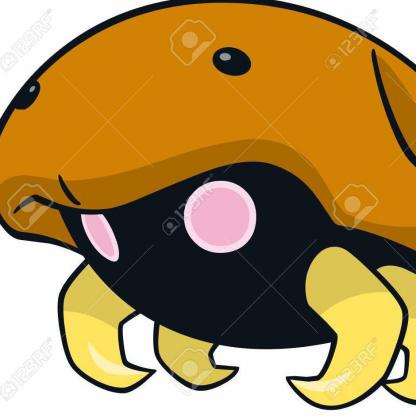Kabuto: (1, 1, 416, 405)
